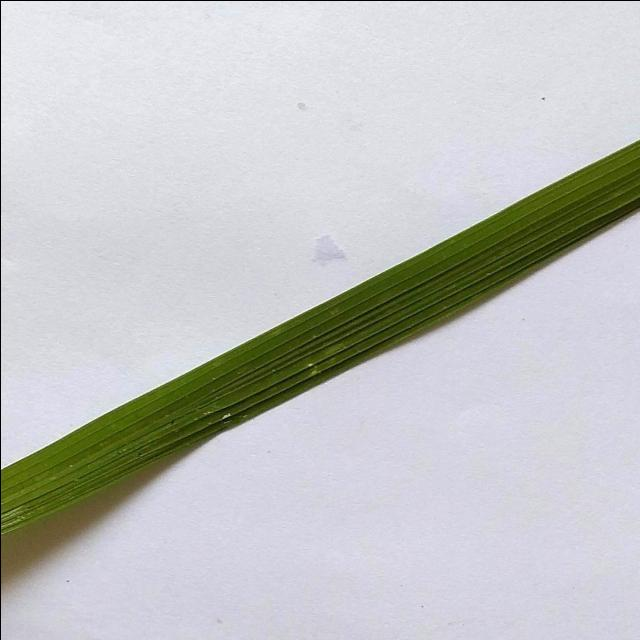healthy: (0, 94, 640, 550)
